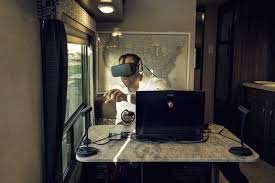oculus: (110, 63, 138, 78)
